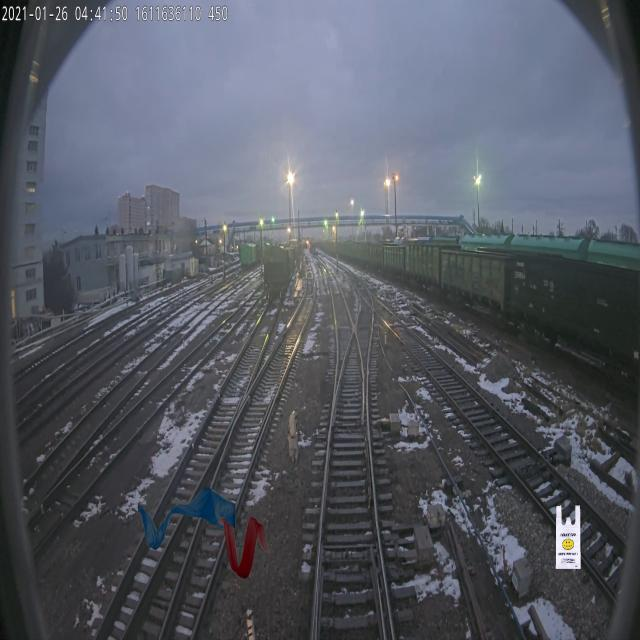floating object: (138, 486, 236, 550), (218, 515, 271, 579)
plastic bag: (556, 505, 581, 569)
